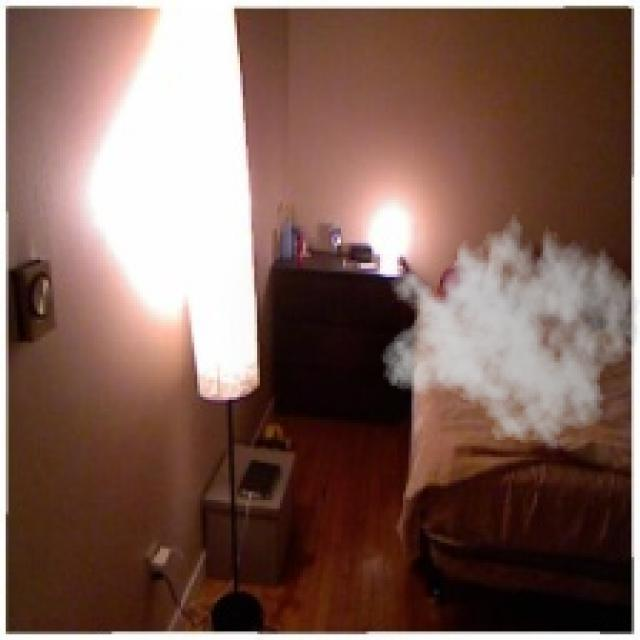Smoke: (380, 203, 637, 460)
